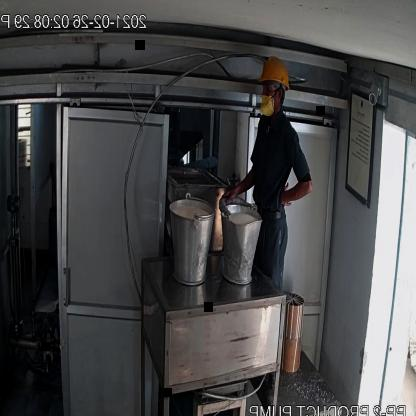helmet: (256, 57, 291, 87)
